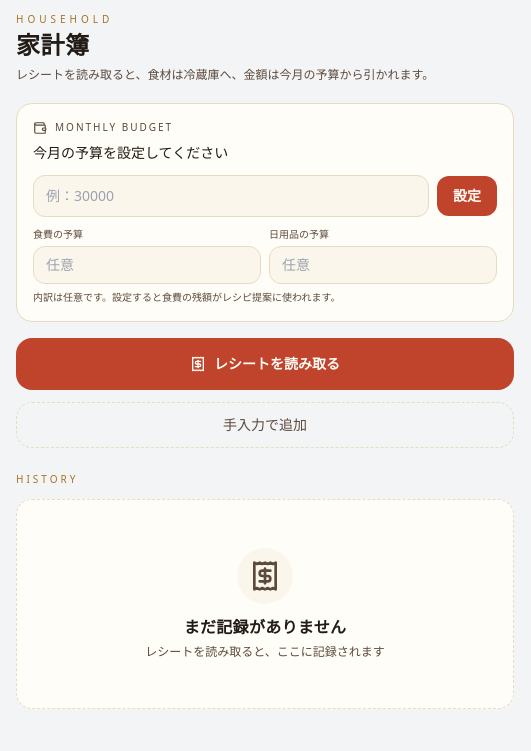
Test: BudgetView — category allocations › refuses allocations that add up to more than the budget
In the field named "今月の予算": (231, 196) [33, 175, 429, 217], type "30000"
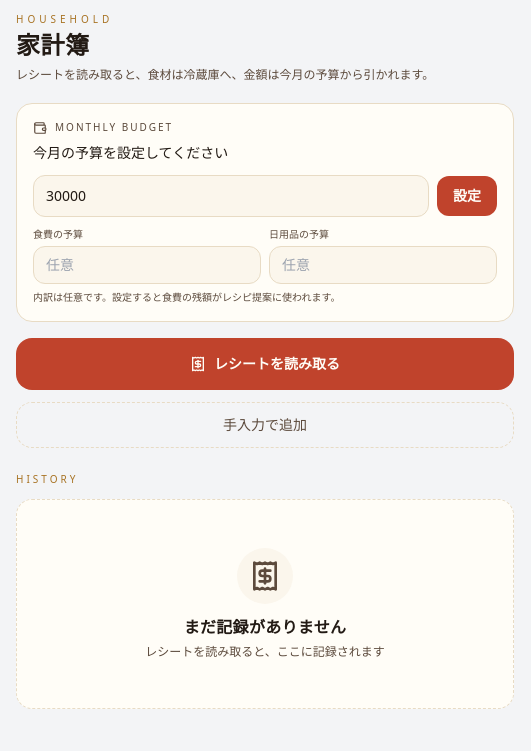
In the field labelled "食費の予算": (147, 265) [33, 246, 261, 284], type "28000"
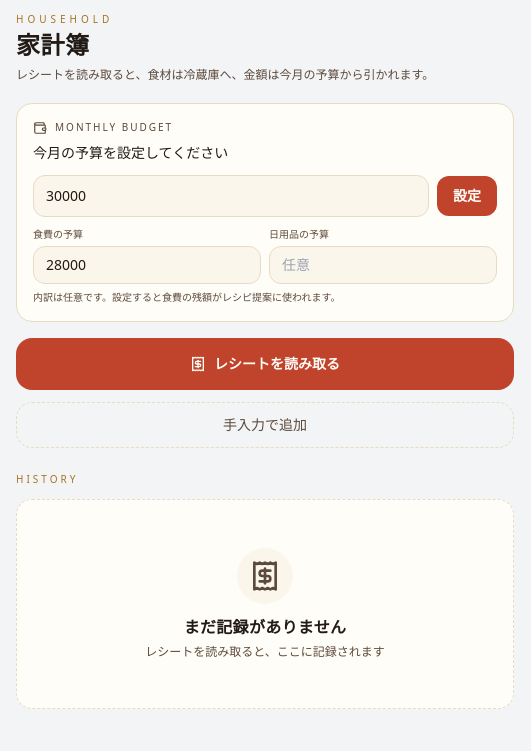
In the field labelled "日用品の予算": (383, 265) [269, 246, 497, 284], type "5000"
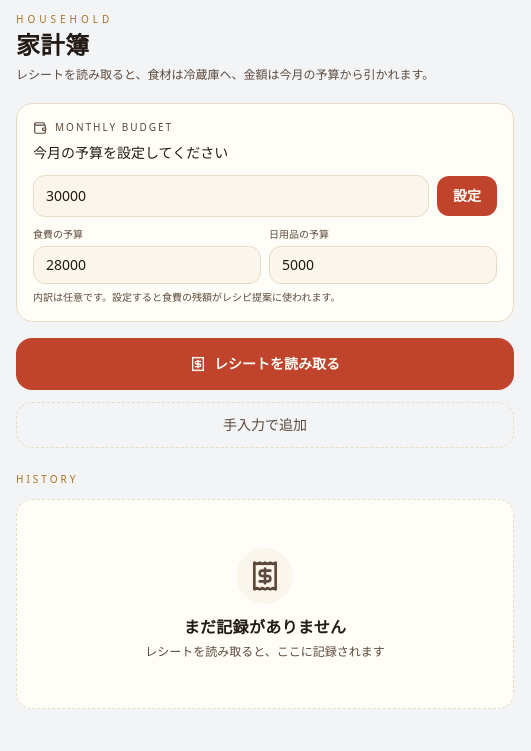
Click the button "設定": (467, 196) [437, 176, 497, 216]
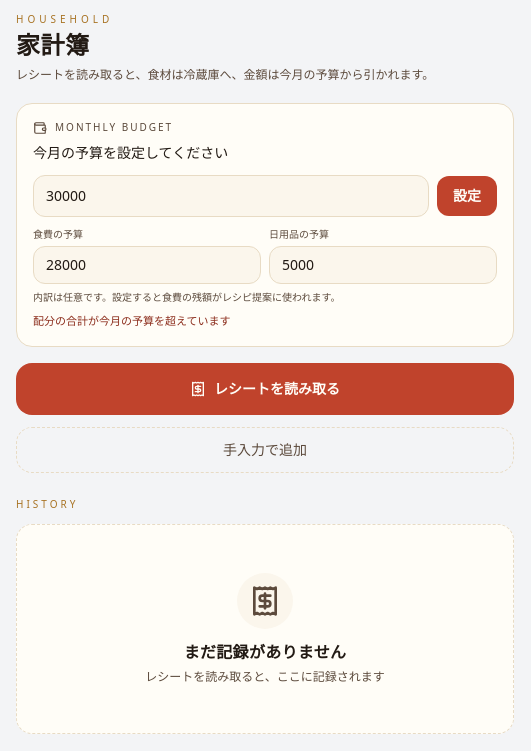
Expected: the text "配分の合計が今月の予算を超えています" is shown, [33, 313, 230, 328]
